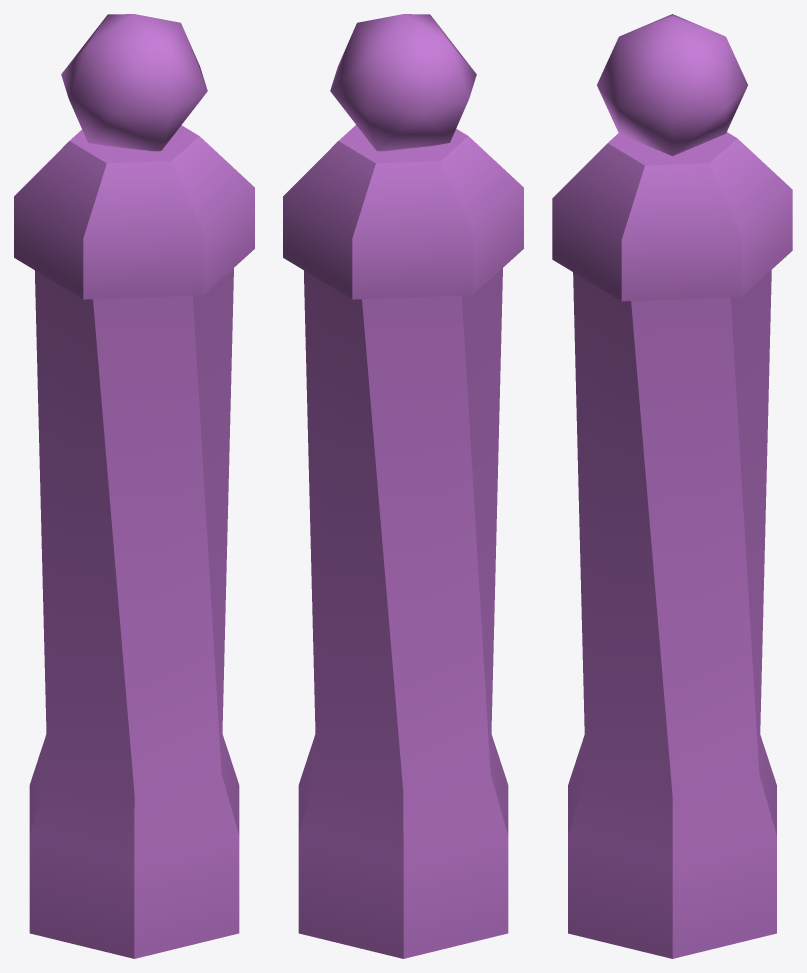
Rendered from EntryGuard.fbx.
The picture shows the model from 3 angles, left to right: view 1: azimuth 30°, elevation 25°; view 2: azimuth 150°, elevation 25°; view 3: azimuth 270°, elevation 25°; orthographic projection.
Parts seen in each view (by area): view 1: EntryGuard; view 2: EntryGuard; view 3: EntryGuard.
Boxes of the visible parts, <box> form: EntryGuard: <box>14,14,254,958</box>; EntryGuard: <box>283,14,523,958</box>; EntryGuard: <box>552,14,792,958</box>.
Size of the model in its own units: 26.64 by 109 by 26.54.
